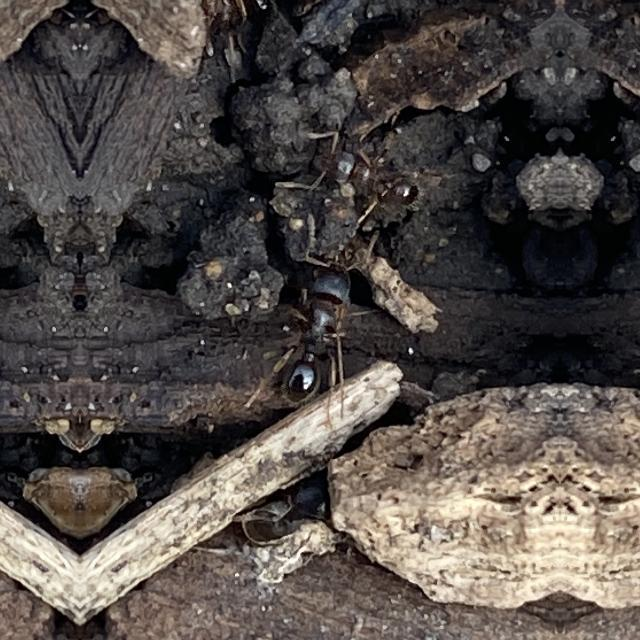Tetramorium: (226, 231, 392, 407), (292, 120, 436, 222)
